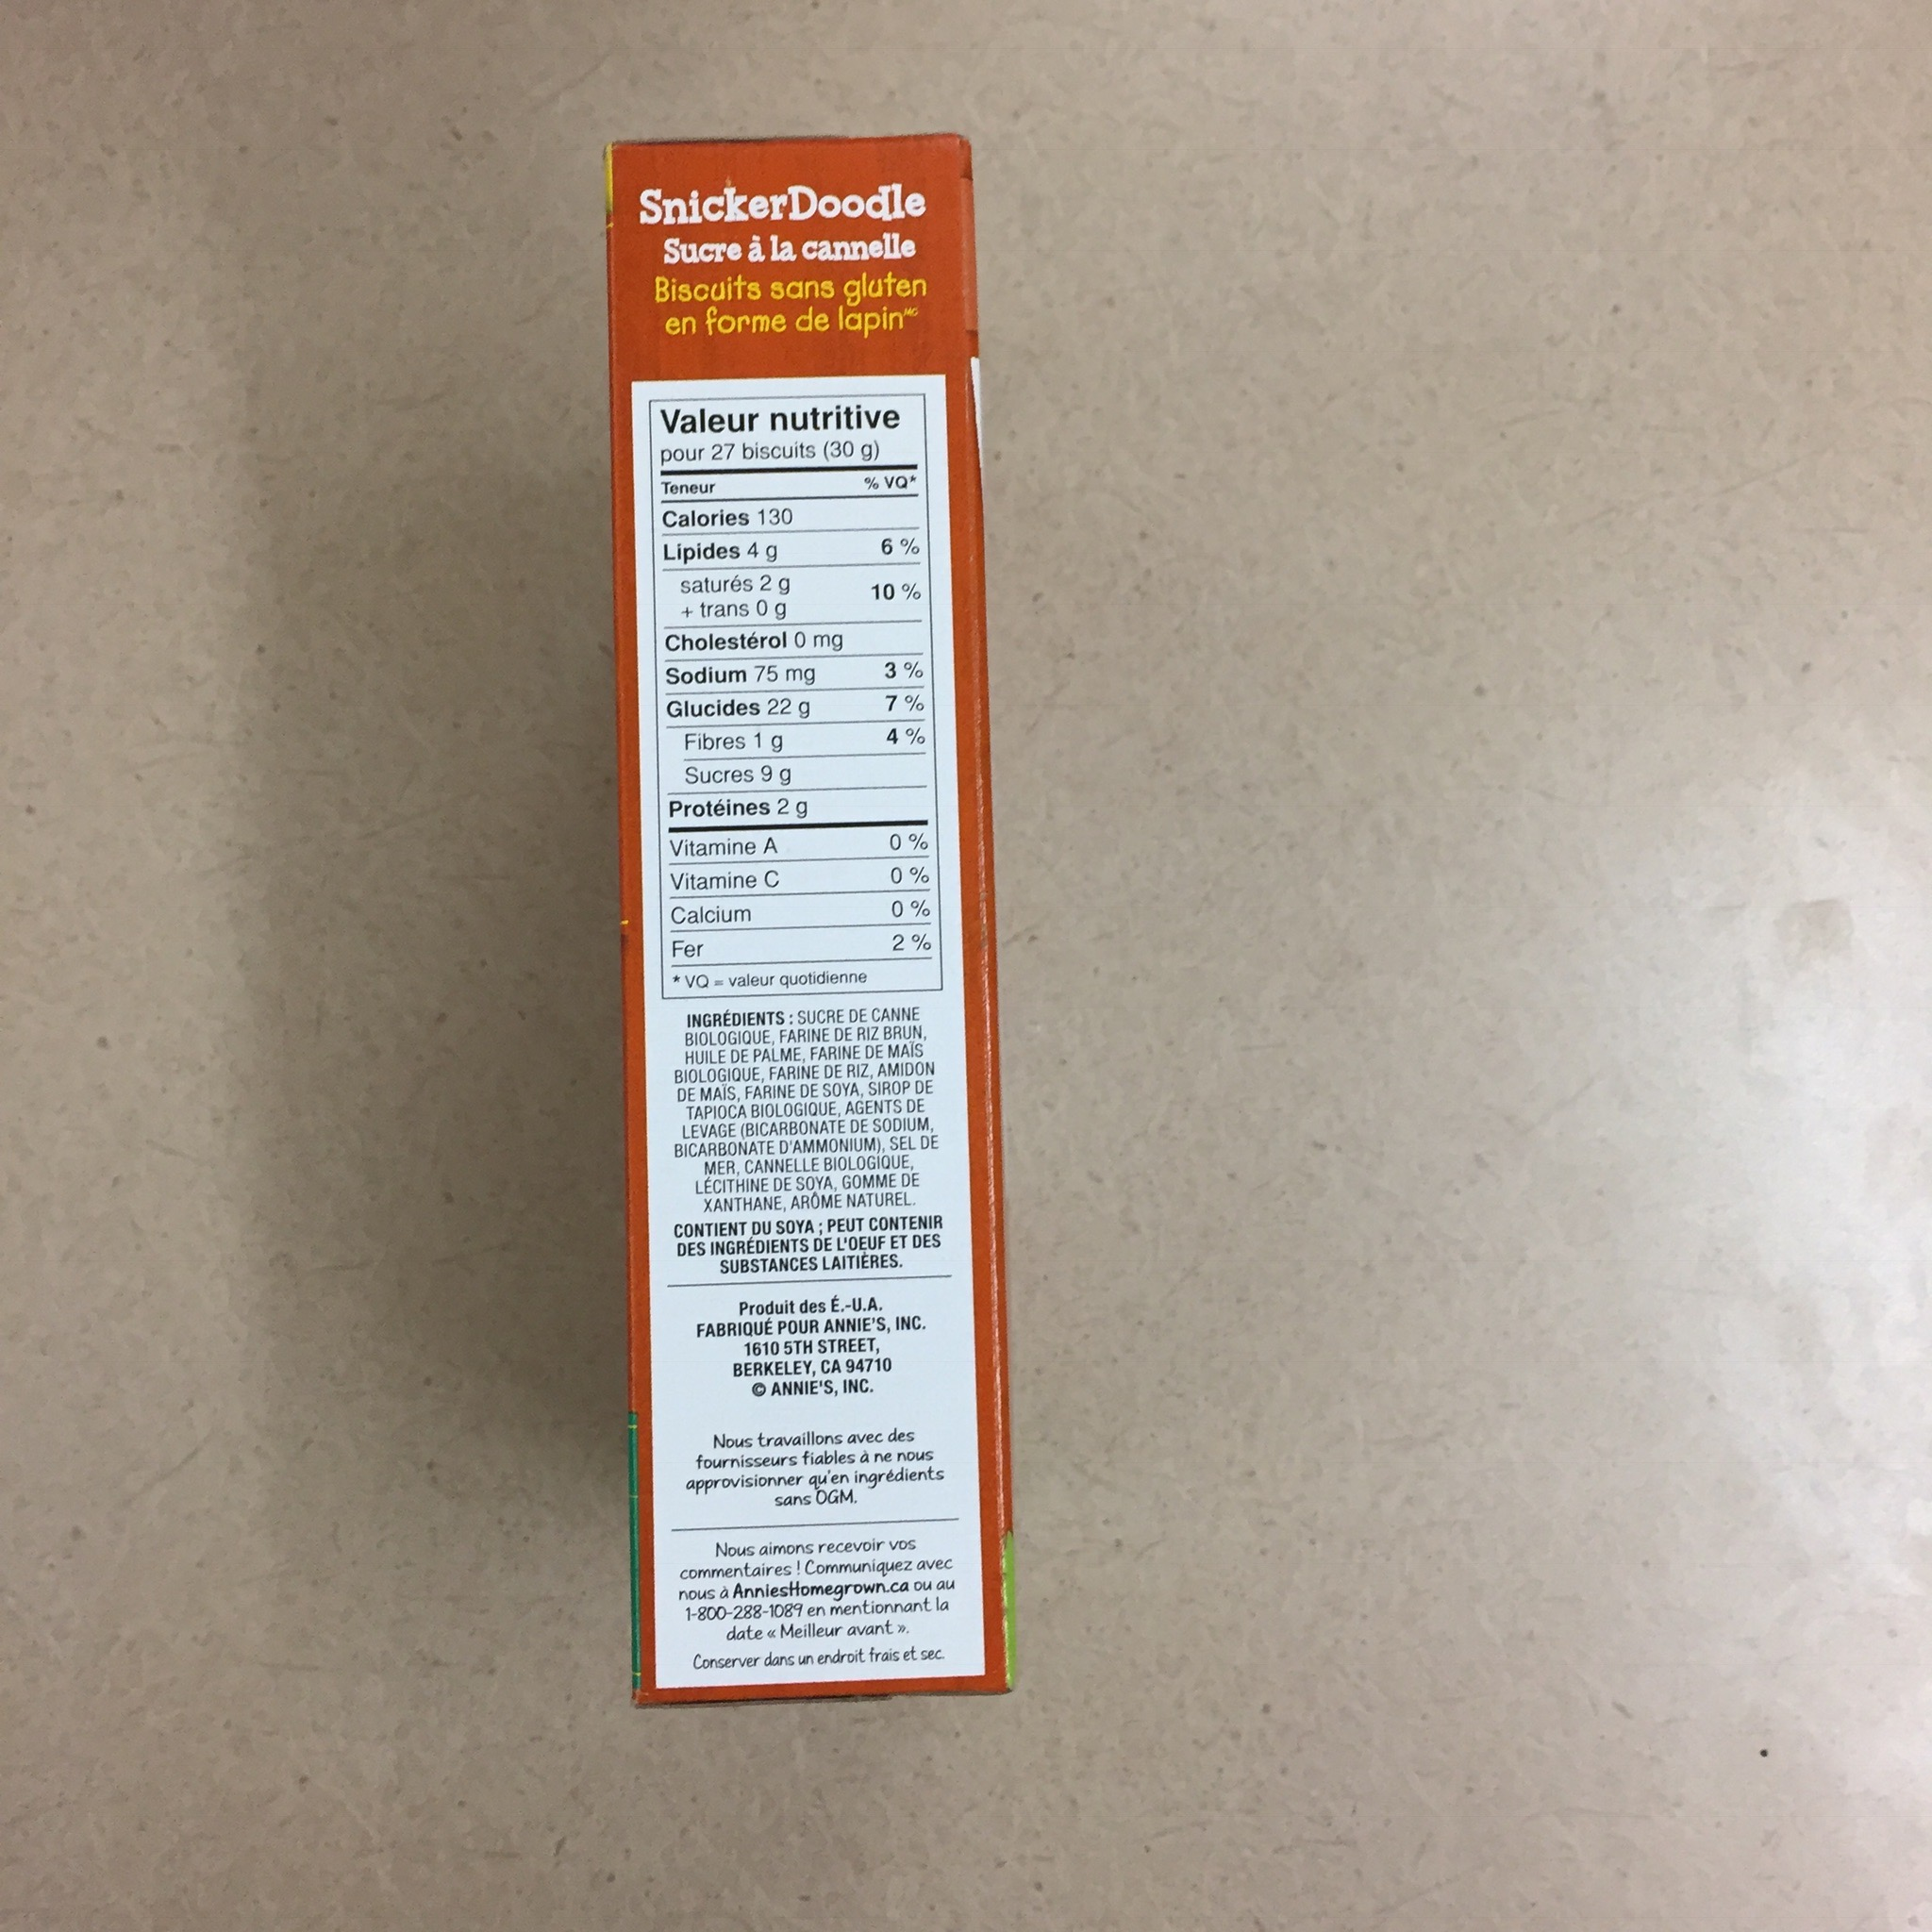annies_snickerdoodle_cinnamon_sugar: (600, 124, 1026, 1714)
